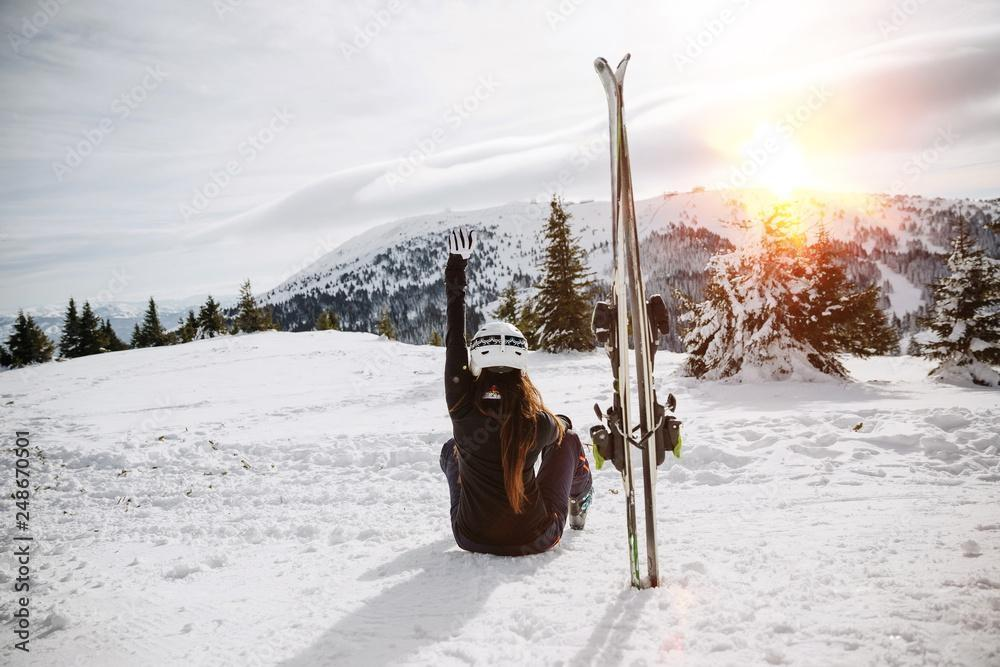Skis: (572, 35, 696, 608)
